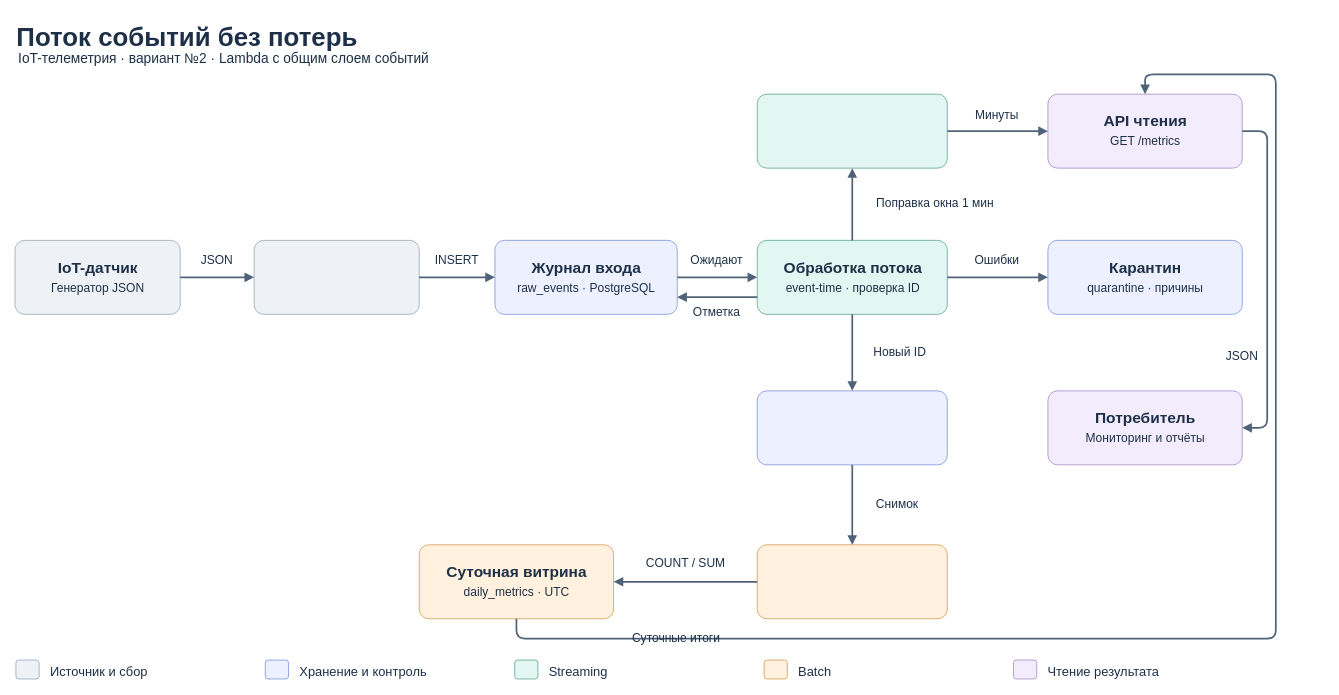
Some shapes in this 1339 by 695 pixel diagram are drawn without their labels. The shapes that lost their labels are listed below. From the top down, each one's centre as x and y in pixels, then its label:
At (851,130): "Минутная витрина minute_metrics".
At (336,277): "HTTP-приёмник POST /events".
At (851,427): "Уникальные события events · ключ event_id".
At (851,581): "Пакетный расчёт SQL · повторный расчёт".
